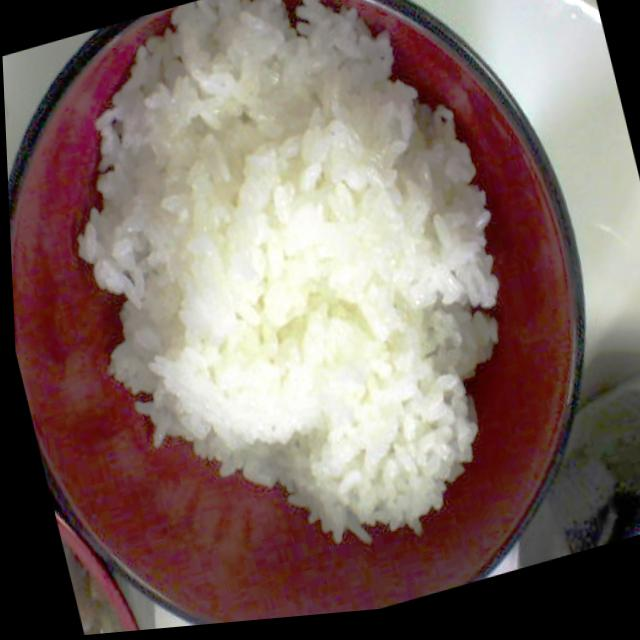rice: (28, 0, 561, 617)
